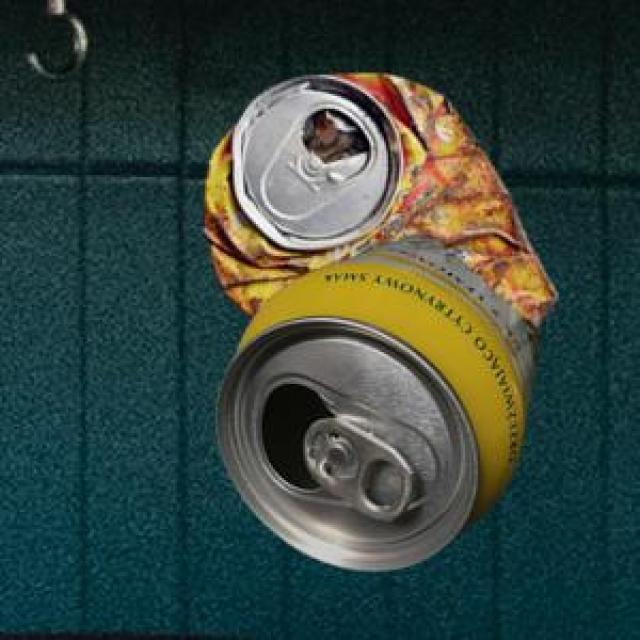Can: (214, 229, 537, 566), (202, 71, 554, 325)
